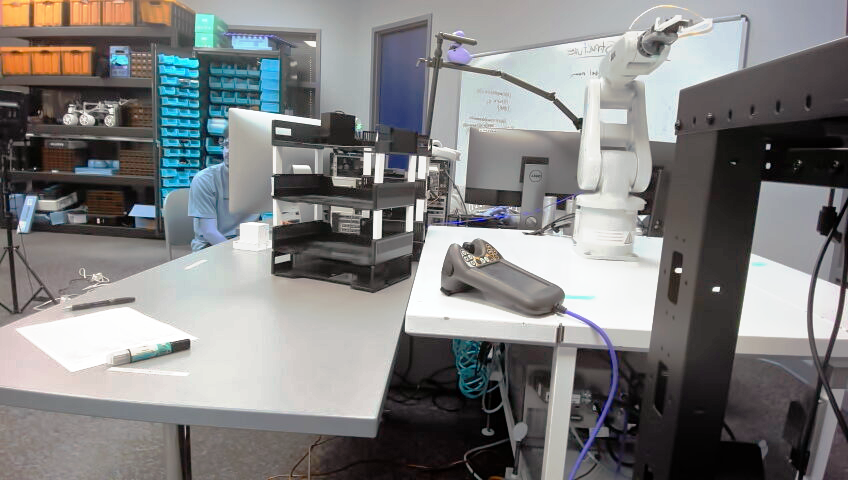black pallet: (314, 109, 358, 143)
